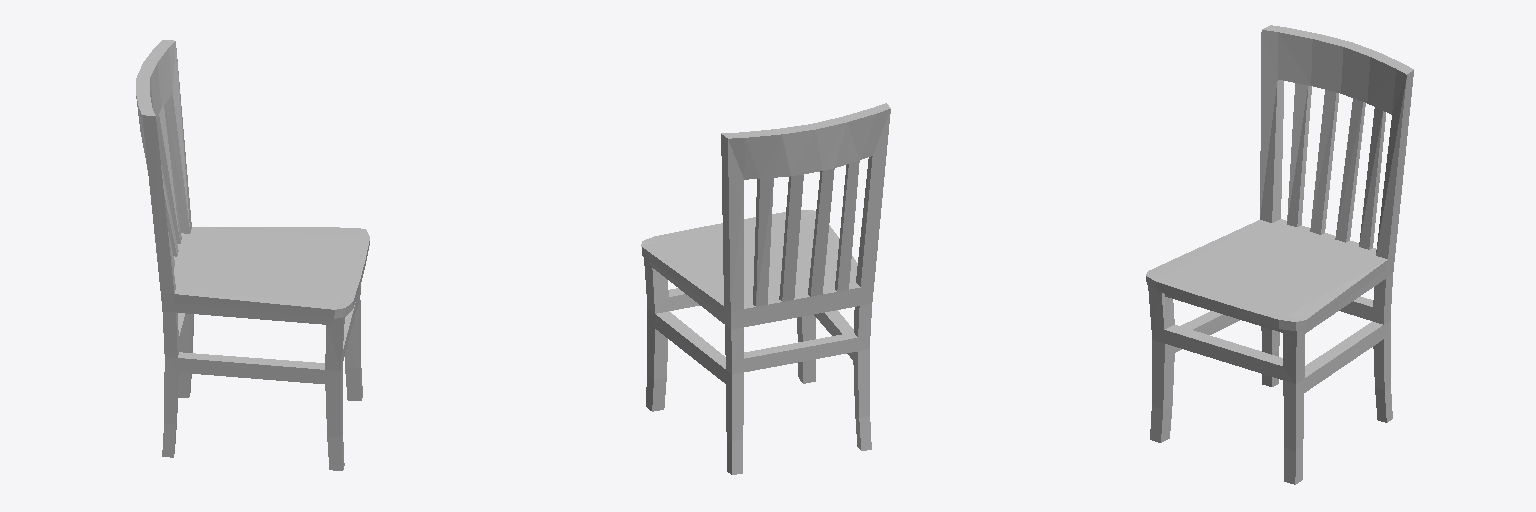
File: poly_chair.obj
3 renders of one model, left to right at view 1: azimuth 30°, elevation 25°; view 2: azimuth 150°, elevation 25°; view 3: azimuth 270°, elevation 25°, orthographic.
Parts seen in each view (by area): view 1: polySurface1; view 2: polySurface1; view 3: polySurface1.
Part boxes in pixels (bbox=[...]): polySurface1: bbox=[136, 40, 369, 470]; polySurface1: bbox=[641, 103, 890, 474]; polySurface1: bbox=[1146, 25, 1413, 484].
Size of the model in its own units: 2.18 by 3.05 by 2.15.